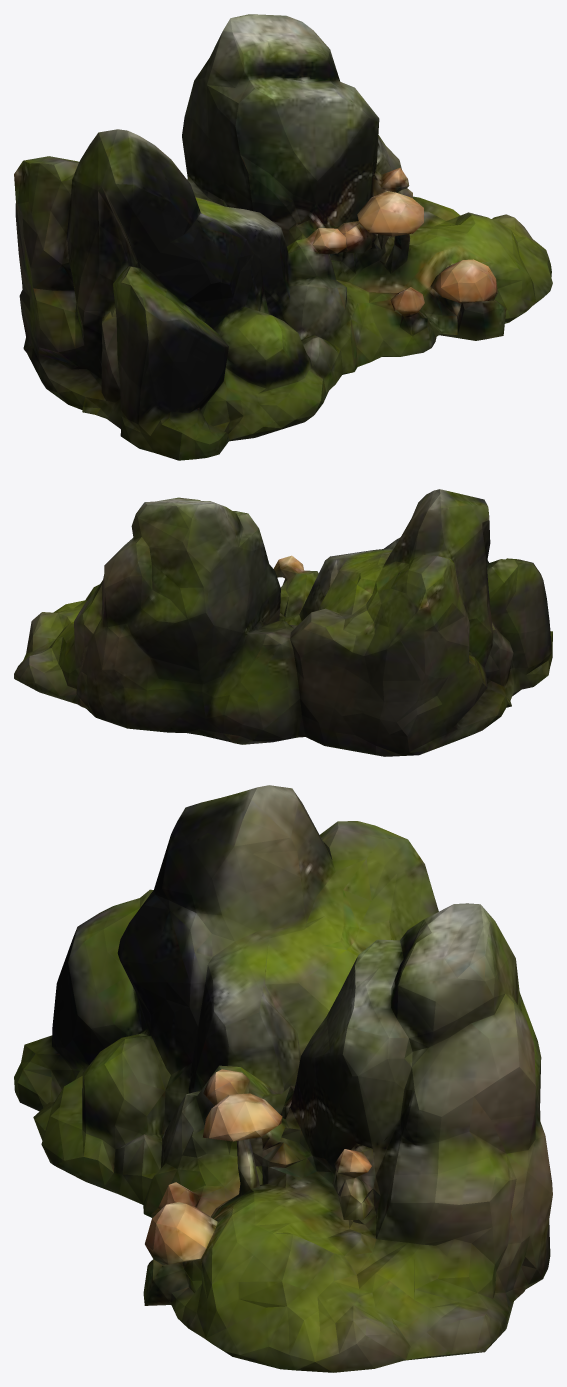
The model's file is rocks_mossy_mushroom_lod0.glb.
3 renders of one model, top to bottom at view 1: azimuth 30°, elevation 25°; view 2: azimuth 150°, elevation 25°; view 3: azimuth 270°, elevation 25°, orthographic. The views are drawn at different scales.
Visible parts, largest first — view 1: rocks_mossy_mushroom_lod0; view 2: rocks_mossy_mushroom_lod0; view 3: rocks_mossy_mushroom_lod0.
Boxes of the visible parts, x1=… form: rocks_mossy_mushroom_lod0: x1=14, y1=14, x2=552, y2=460; rocks_mossy_mushroom_lod0: x1=14, y1=489, x2=552, y2=756; rocks_mossy_mushroom_lod0: x1=14, y1=785, x2=552, y2=1372.
Size of the model in its own units: 3 by 1.43 by 2.19.
1 material, 1 textured.
